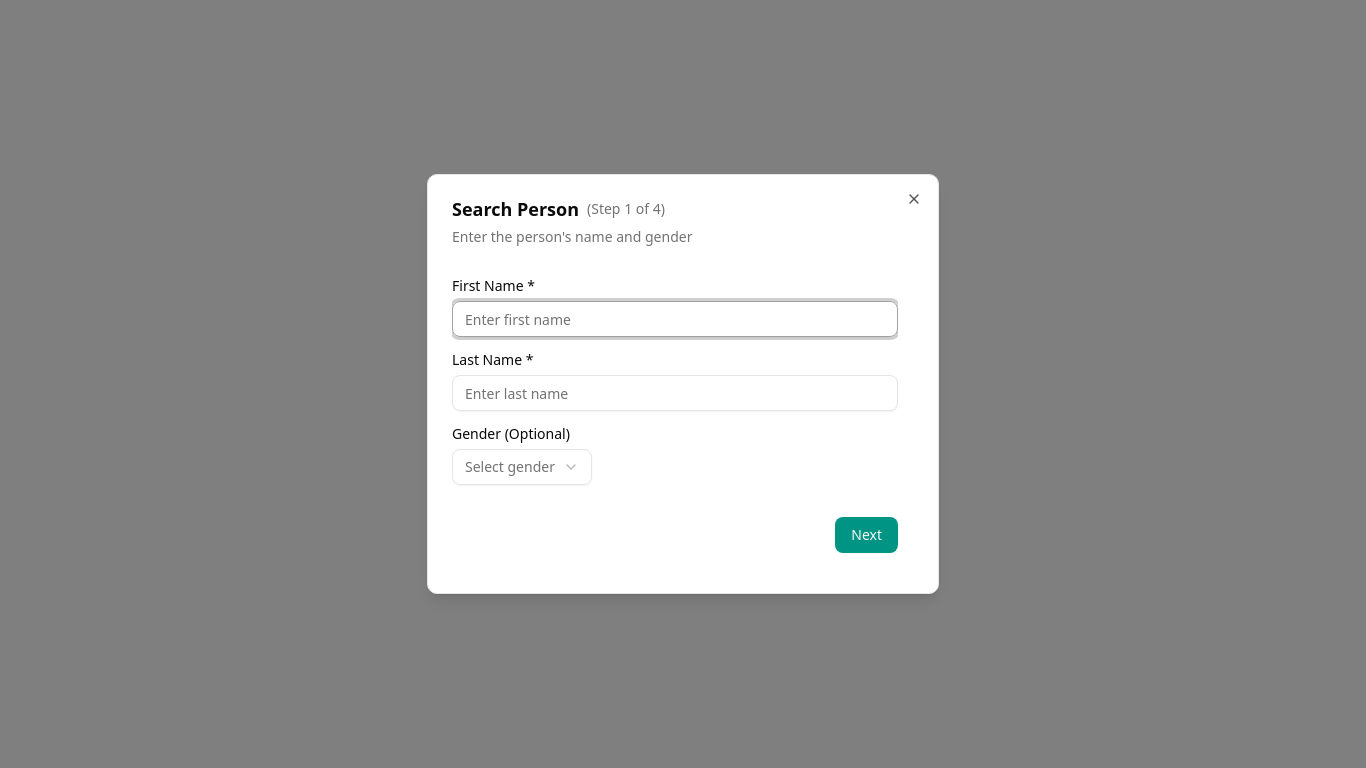
Test case: SearchPersonDialog › should validate required fields in Step 1
// Try to submit without filling required fields
Click the button "Next" at (867, 535), box left=835, top=517, right=898, bottom=553
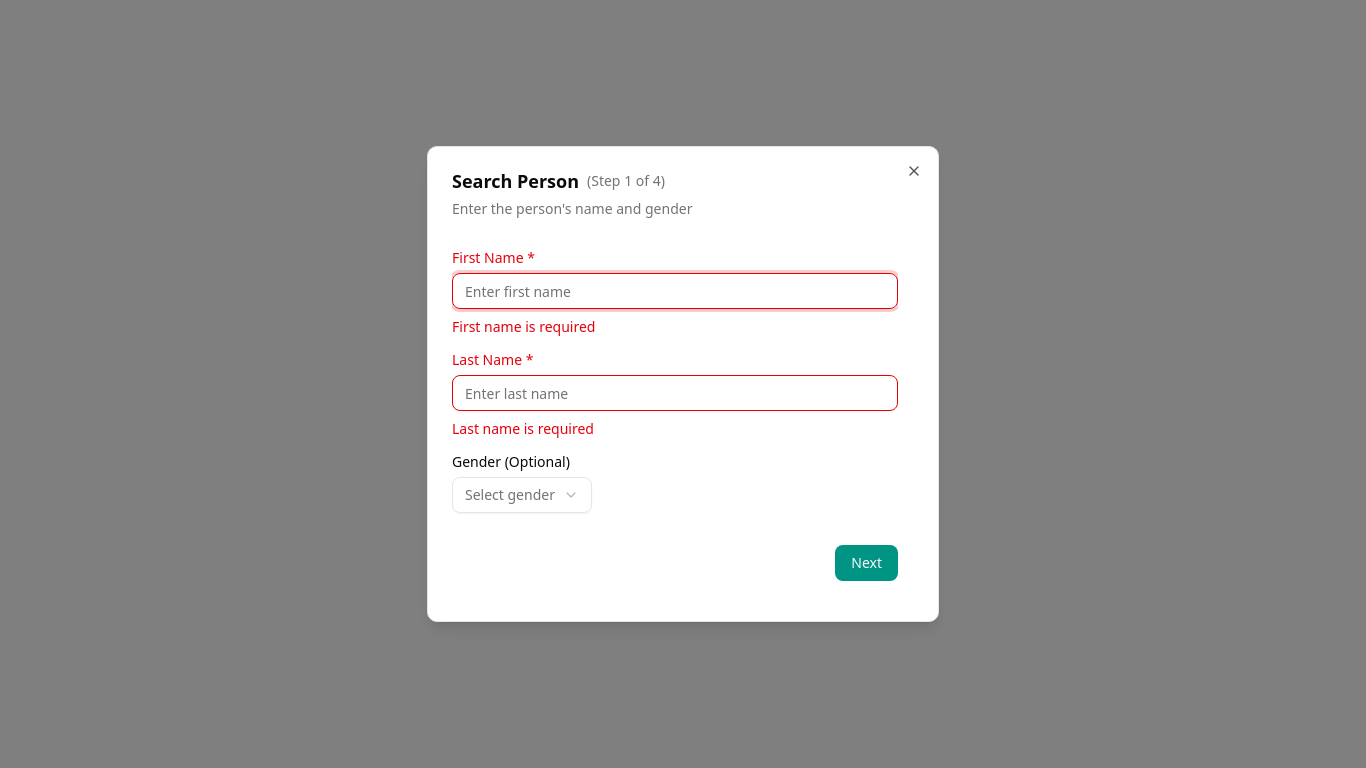
Result: the text "First name is required" is shown at left=452, top=317, right=595, bottom=336
Result: the text "Last name is required" is shown at left=452, top=419, right=594, bottom=438
